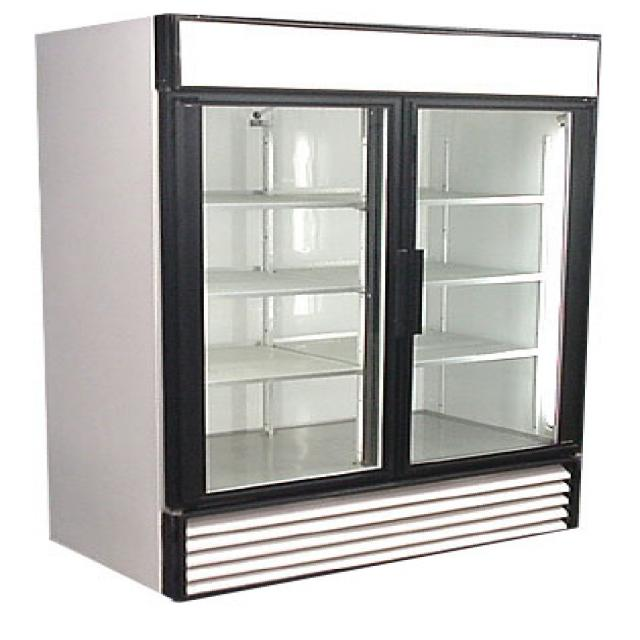refrigerator: (156, 11, 592, 588)
